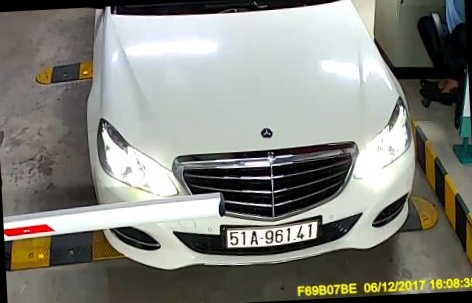plate: (214, 218, 316, 248)
